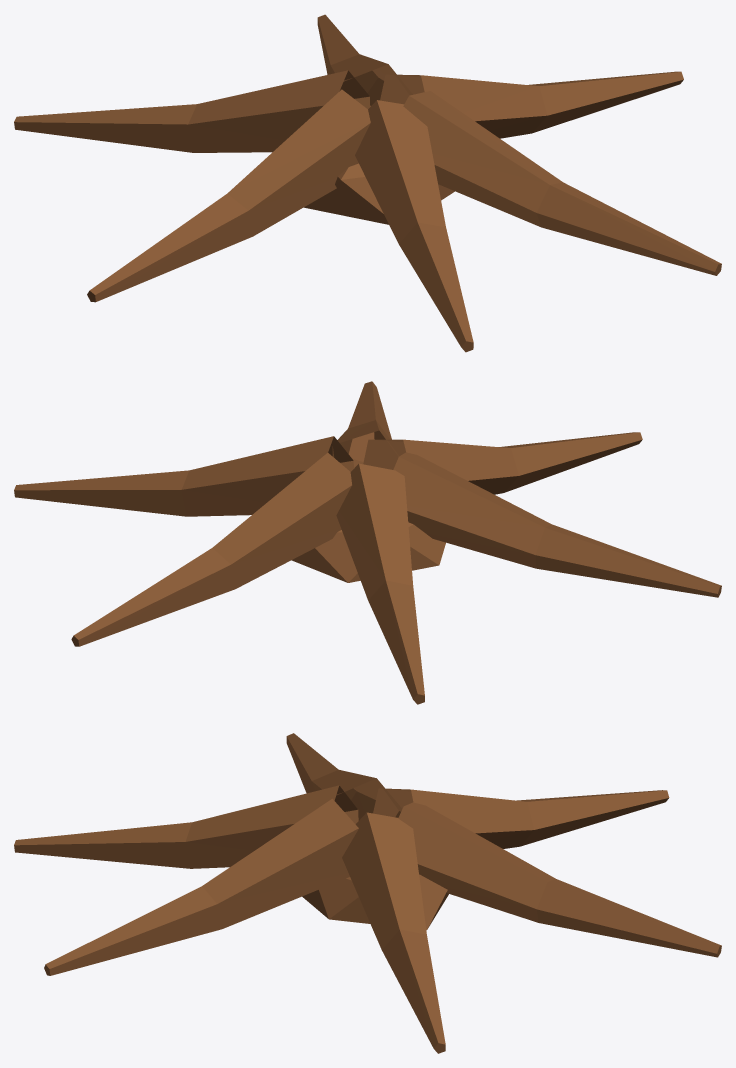
The model's file is HS_LP_Roots_02.fbx.
The picture shows the model from 3 angles, top to bottom: view 1: azimuth 30°, elevation 25°; view 2: azimuth 150°, elevation 25°; view 3: azimuth 270°, elevation 25°; orthographic projection. The views are drawn at different scales.
Visible parts, largest first — view 1: HS_LP_Roots_02; view 2: HS_LP_Roots_02; view 3: HS_LP_Roots_02.
Part boxes in pixels (box(x1,y1,x2,y2)): HS_LP_Roots_02: box(14, 14, 721, 352); HS_LP_Roots_02: box(14, 381, 721, 704); HS_LP_Roots_02: box(14, 733, 721, 1053).
Size of the model in its own units: 131 by 23.01 by 127.
